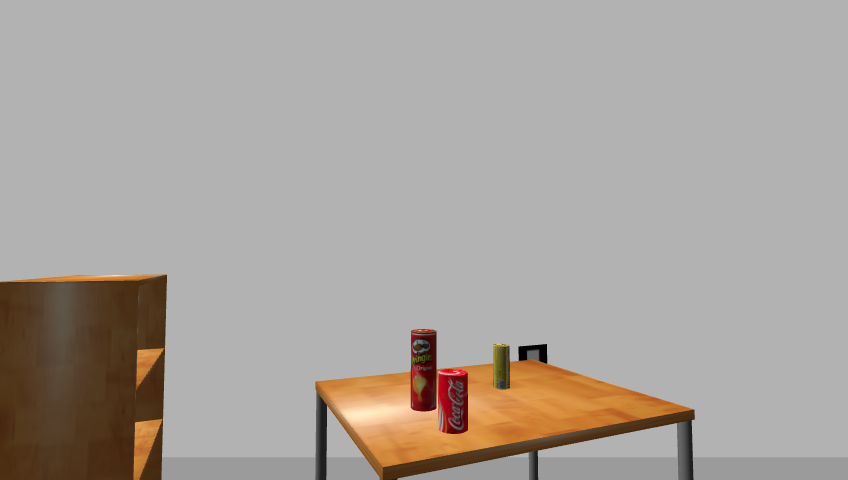aruco marker: (514, 343, 551, 367)
biscuits pack: (493, 343, 510, 391)
bookshelf: (0, 273, 175, 480)
coke can: (439, 368, 470, 435)
dinner table: (302, 361, 704, 479)
pringles can: (407, 329, 439, 413)
